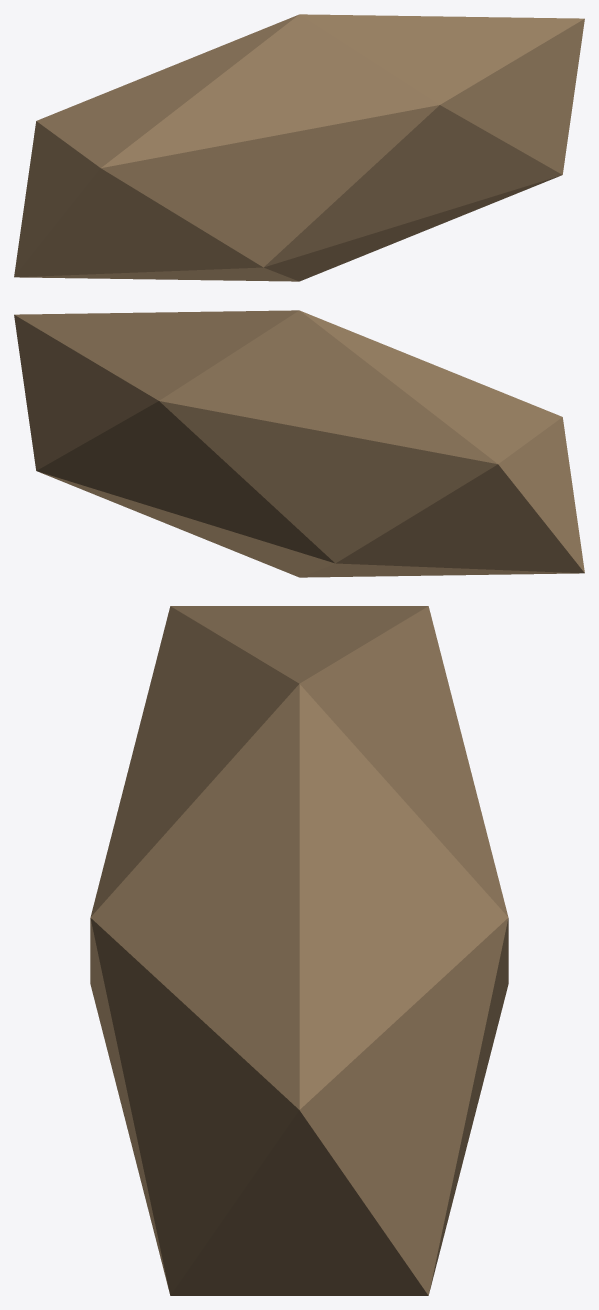
The model's file is Stone.fbx.
3 renders of one model, top to bottom at view 1: azimuth 30°, elevation 25°; view 2: azimuth 150°, elevation 25°; view 3: azimuth 270°, elevation 25°, orthographic. The views are drawn at different scales.
Parts seen in each view (by area): view 1: stone; view 2: stone; view 3: stone.
Part boxes in pixels (left/top/right/bottom): stone: left=14, top=14, right=584, bottom=281; stone: left=14, top=310, right=584, bottom=577; stone: left=90, top=606, right=508, bottom=1295.
Size of the model in its own units: 215 by 96 by 68.05.
